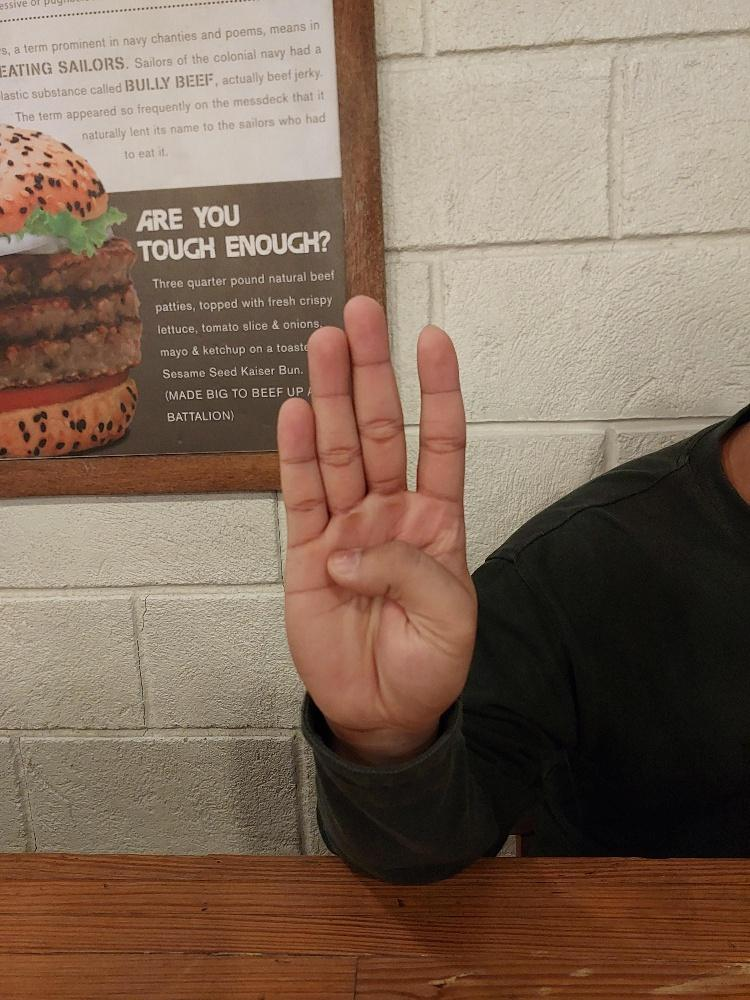b: (273, 291, 480, 728)
